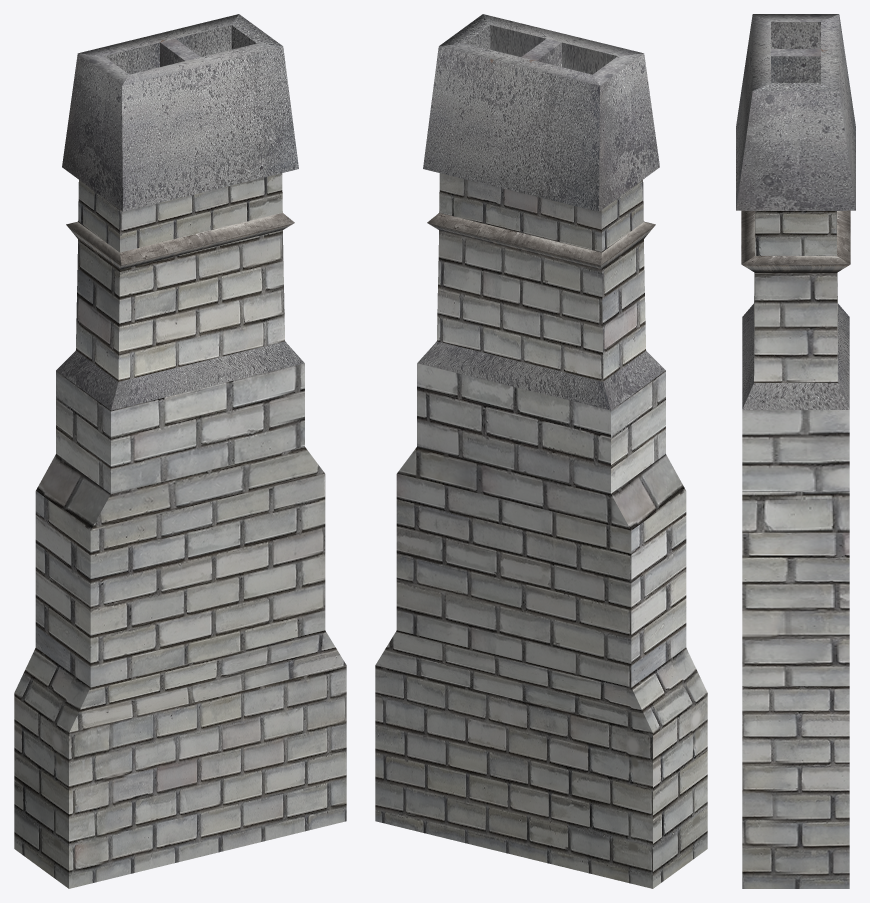
File: Chimney1A.fbx
3 views of the same model, side by side, from view 1: azimuth 30°, elevation 25°; view 2: azimuth 150°, elevation 25°; view 3: azimuth 270°, elevation 25° (orthographic).
Visible parts, largest first — view 1: Chimney1A; view 2: Chimney1A; view 3: Chimney1A.
Boxes of the visible parts, x1=… form: Chimney1A: x1=14, y1=14, x2=346, y2=888; Chimney1A: x1=375, y1=14, x2=707, y2=888; Chimney1A: x1=736, y1=14, x2=855, y2=888.
Size of the model in its own units: 146 by 395 by 55.72.
